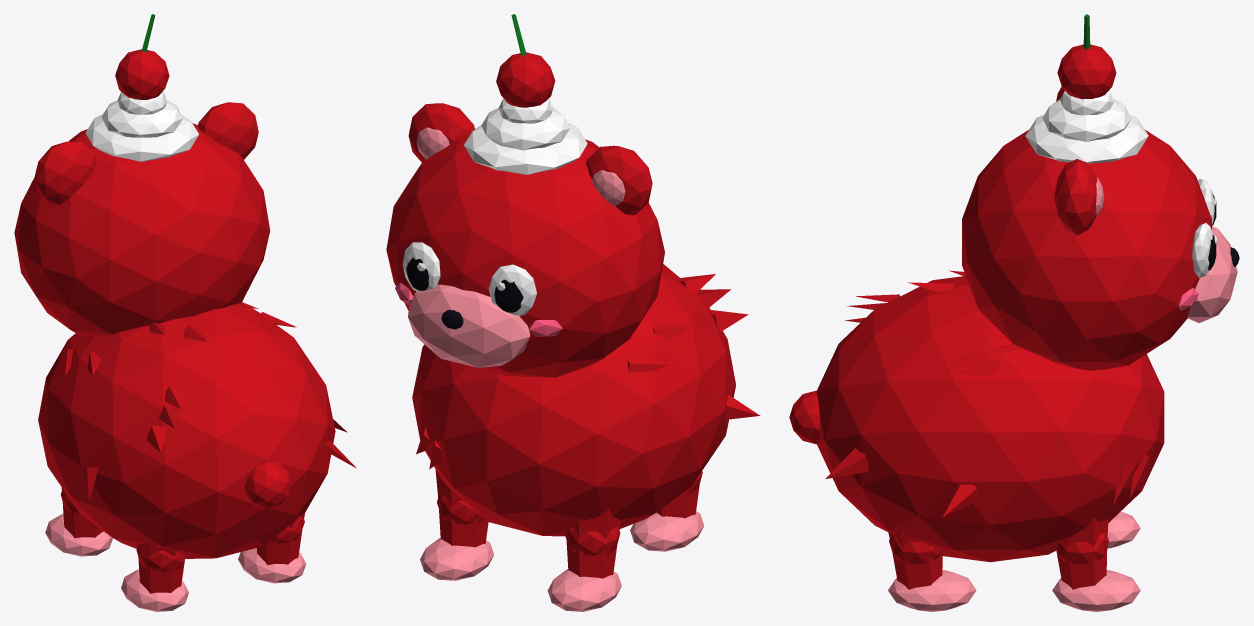
Rendered from cherry_bear.obj.
3 views of the same model, side by side, from view 1: azimuth 30°, elevation 25°; view 2: azimuth 150°, elevation 25°; view 3: azimuth 270°, elevation 25° (orthographic). The views are drawn at different scales.
Parts seen in each view (by area): view 1: Body_1_m1, Head_2_m4, Head_2_m7, Leg3Lo_8_m18, Leg3Lo_8_m19, Leg1Lo_4_m13, Leg4Lo_10_m22, Leg4Lo_10_m21, Leg1Lo_4_m12, Body_1_m3; view 2: Body_1_m1, Head_2_m4, Head_2_m7, Head_2_m5, Leg2Lo_6_m16, Leg1Lo_4_m13, Leg1Lo_4_m12, Leg3Lo_8_m19, Leg2Lo_6_m15, Head_2_m8, Leg3Lo_8_m18, Leg1Up_3_m11 (+2 smaller); view 3: Body_1_m1, Head_2_m4, Head_2_m7, Head_2_m5, Leg2Lo_6_m16, Leg4Lo_10_m22, Leg2Lo_6_m15, Leg4Lo_10_m21, Body_1_m3, Leg1Lo_4_m13, Leg2Up_5_m14.
Part boxes in pixels (box(x1,y1,x2,y2)): Body_1_m1: box(38, 302, 347, 558); Head_2_m4: box(14, 49, 270, 336); Head_2_m7: box(85, 91, 198, 161); Leg3Lo_8_m18: box(136, 544, 185, 593); Leg3Lo_8_m19: box(121, 569, 188, 611); Leg1Lo_4_m13: box(45, 514, 112, 556); Leg4Lo_10_m22: box(238, 548, 306, 583); Leg4Lo_10_m21: box(256, 516, 304, 565); Leg1Lo_4_m12: box(60, 490, 103, 538); Body_1_m3: box(108, 323, 356, 468); Body_1_m1: box(412, 264, 760, 536); Head_2_m4: box(386, 52, 664, 377); Head_2_m7: box(402, 98, 587, 315); Head_2_m5: box(408, 127, 625, 367); Leg2Lo_6_m16: box(420, 538, 494, 580); Leg1Lo_4_m13: box(547, 569, 621, 611); Leg1Lo_4_m12: box(564, 526, 620, 578); Leg3Lo_8_m19: box(630, 511, 704, 551); Leg2Lo_6_m15: box(437, 494, 488, 547); Head_2_m8: box(406, 257, 523, 312); Leg3Lo_8_m18: box(656, 471, 702, 518); Leg1Up_3_m11: box(573, 509, 620, 538); Body_1_m1: box(789, 276, 1164, 562); Head_2_m4: box(962, 44, 1211, 370); Head_2_m7: box(1025, 90, 1214, 277); Head_2_m5: box(1096, 178, 1237, 322); Leg2Lo_6_m16: box(1052, 570, 1140, 611); Leg4Lo_10_m22: box(888, 570, 976, 611); Leg2Lo_6_m15: box(1055, 533, 1108, 589); Leg4Lo_10_m21: box(889, 536, 942, 589); Body_1_m3: box(825, 270, 1134, 505); Leg1Lo_4_m13: box(1107, 511, 1140, 548); Leg2Up_5_m14: box(1063, 518, 1108, 547).
Size of the model in its own units: 1.77 by 3.23 by 2.33.
